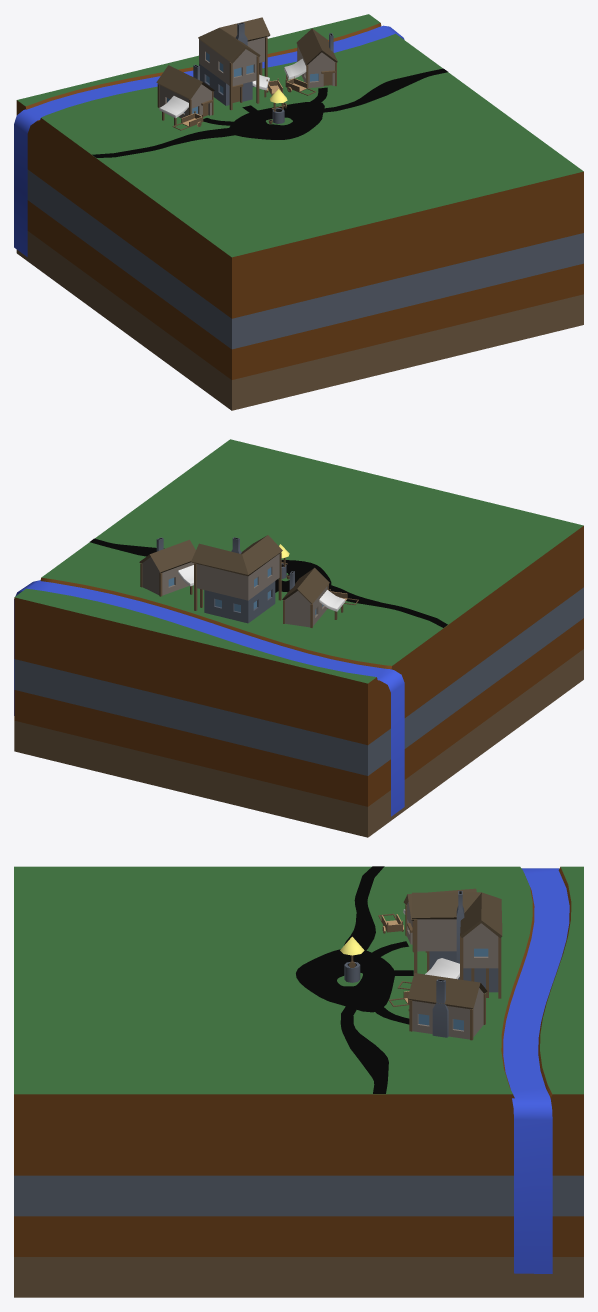
Rendered from Level_tuto.fbx.
3 renders of one model, top to bottom at view 1: azimuth 30°, elevation 25°; view 2: azimuth 150°, elevation 25°; view 3: azimuth 270°, elevation 25°, orthographic. The views are drawn at different scales.
Parts seen in each view (by area): view 1: Cube.001, House_4.004, NurbsPath.002, Circle.001, House_1.011, House_1.012; view 2: Cube.001, NurbsPath.002, House_4.004, House_1.012, House_1.011, Circle.001; view 3: Cube.001, NurbsPath.002, House_4.004, Circle.001, House_1.012, Well.002.
Part boxes in pixels (x1=…): Cube.001: x1=16, y1=14, x2=583, y2=410; House_4.004: x1=198, y1=17, x2=270, y2=110; NurbsPath.002: x1=14, y1=25, x2=404, y2=256; Circle.001: x1=92, y1=68, x2=447, y2=157; House_1.011: x1=156, y1=64, x2=214, y2=126; House_1.012: x1=284, y1=28, x2=337, y2=87; Cube.001: x1=14, y1=439, x2=583, y2=837; NurbsPath.002: x1=14, y1=580, x2=404, y2=816; House_4.004: x1=191, y1=535, x2=282, y2=623; House_1.012: x1=139, y1=537, x2=195, y2=596; House_1.011: x1=282, y1=567, x2=345, y2=627; Circle.001: x1=90, y1=538, x2=447, y2=627; Cube.001: x1=14, y1=866, x2=583, y2=1297; NurbsPath.002: x1=503, y1=868, x2=569, y2=1273; House_4.004: x1=412, y1=891, x2=502, y2=998; Circle.001: x1=296, y1=866, x2=413, y2=1093; House_1.012: x1=407, y1=973, x2=487, y2=1040; Well.002: x1=340, y1=936, x2=364, y2=982.
Size of the model in its own units: 5265 by 2941 by 5199.
